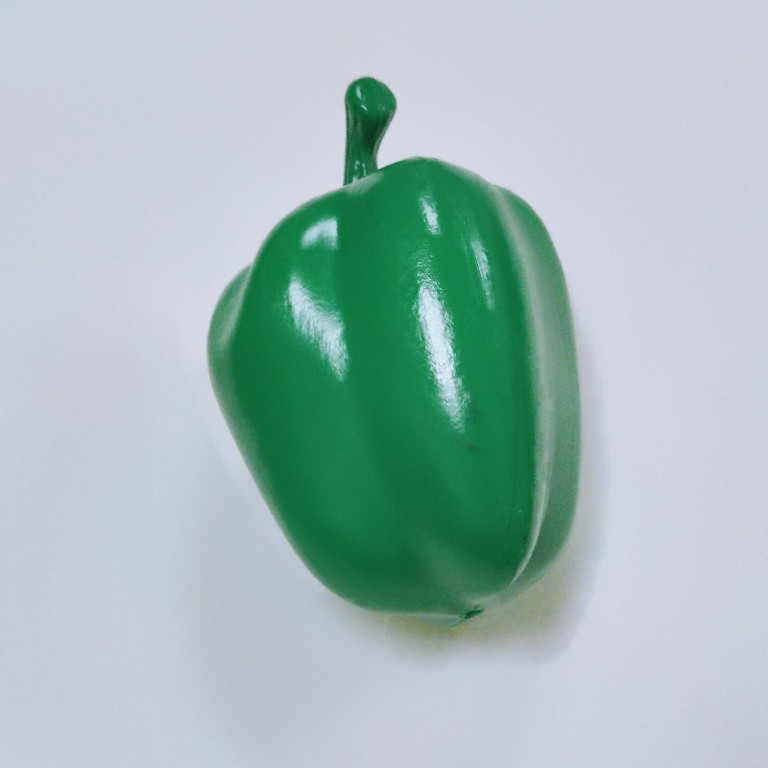fruit_pepper: (201, 71, 590, 629)
